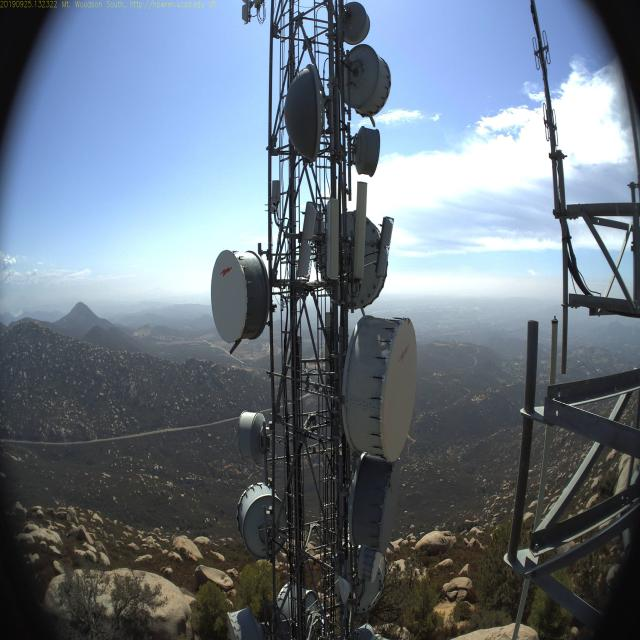smoke: (1, 292, 24, 319)
